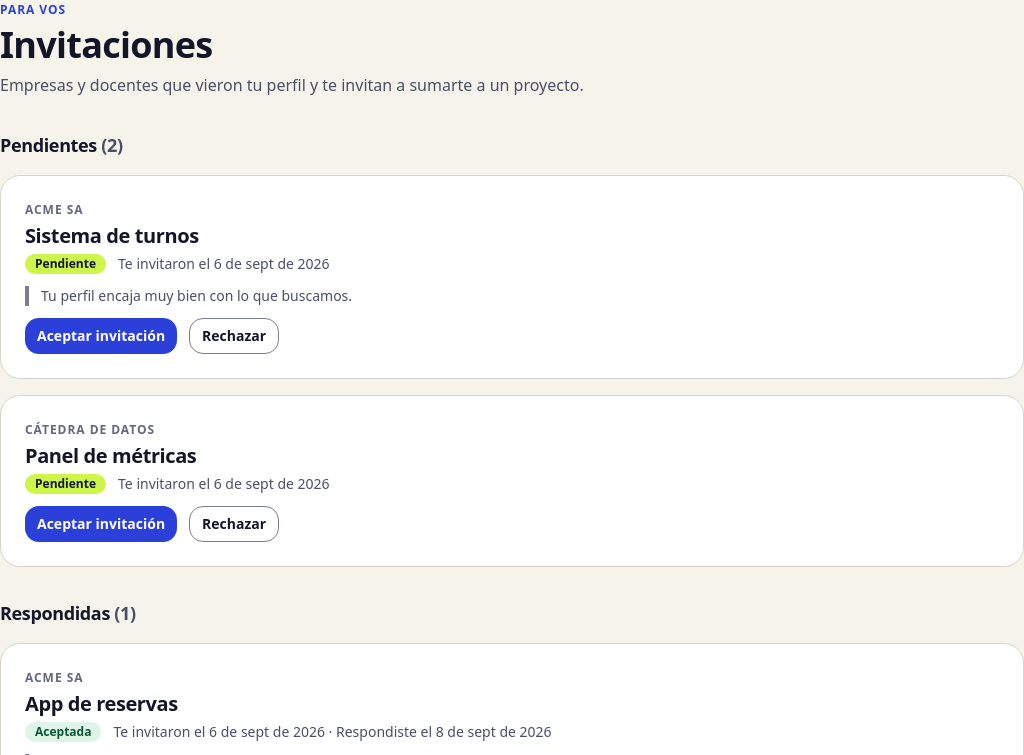
Test case: InvitacionesPage › rechazar › pide confirmación avisando que no se puede deshacer y responde que no
expect the link "Panel de métricas" is shown: met, box [25,442,196,469]
Click the button "Rechazar" below "Panel de métricas" at (234, 524), box [189,506,279,542]
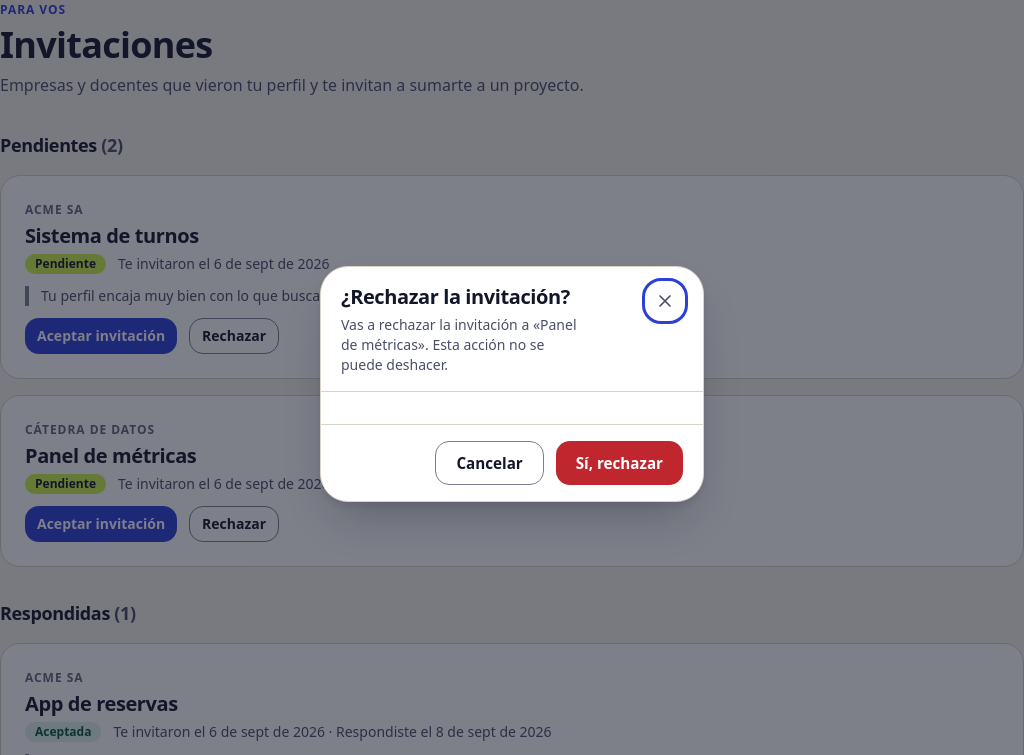
expect the dialog "¿Rechazar la invitación?" shows "Vas a rechazar la invitación a «Panel de métricas». Esta acción no se puede deshacer.": met, box [341,315,576,374]
Click the button "Sí, rechazar" at (619, 463), box [556,441,683,485]
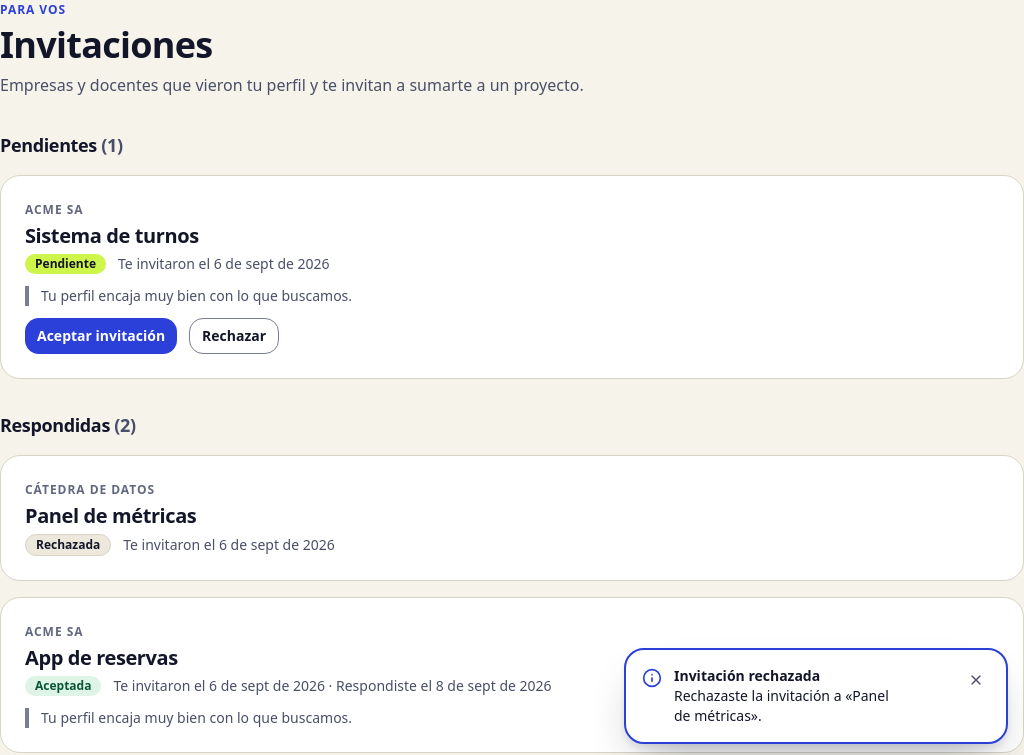
expect the text "Rechazaste la invitación a «Panel de métricas»." is shown: met, box [674,686,889,725]
